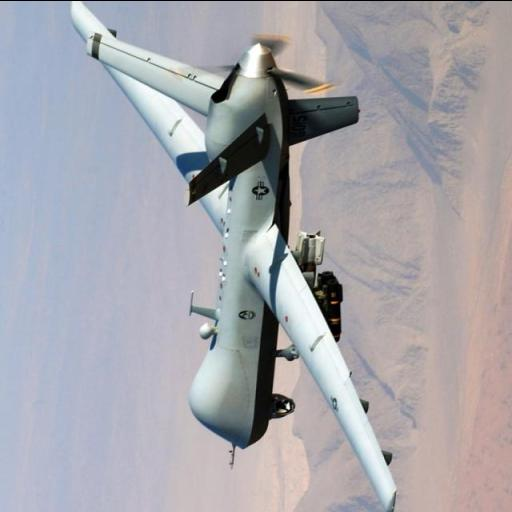uav: (68, 0, 406, 509)
